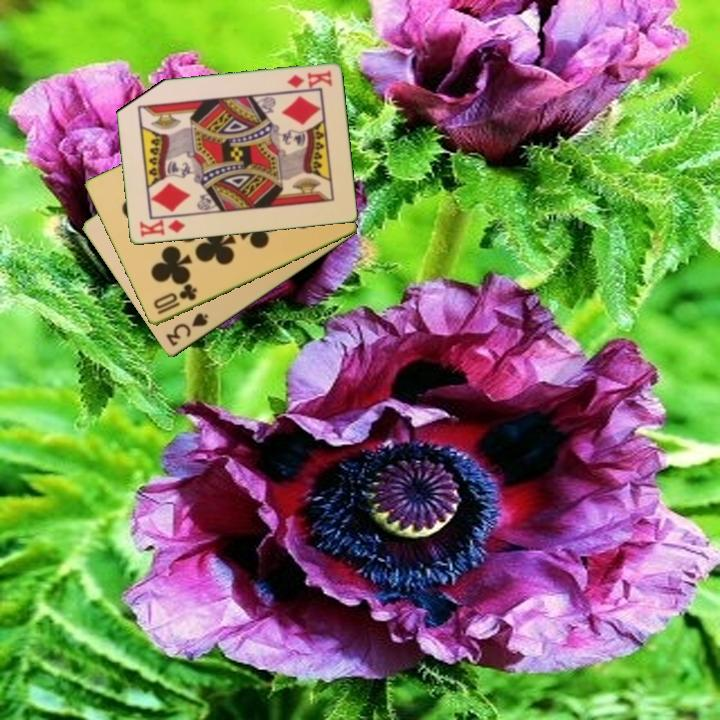10c: (150, 281, 200, 318)
3s: (162, 309, 211, 349)
Kd: (136, 216, 188, 240), (283, 67, 335, 91)
